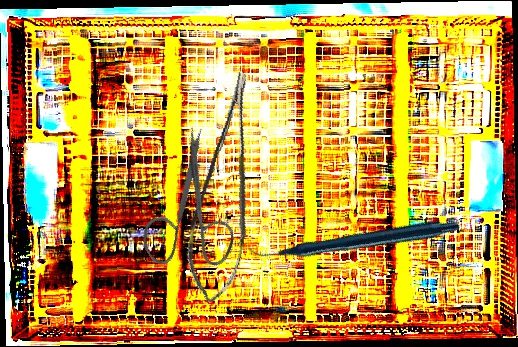Handpiece: (245, 139, 463, 335)
Iris Scissors: (101, 121, 271, 295)
Micro Scissor: (172, 70, 289, 308)
